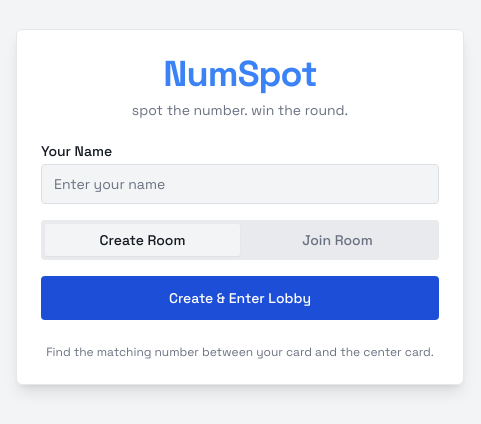
it: Home page › name validation › shows error when name is empty
Click the button "Create & Enter Lobby".
click(240, 298)  # box x1=41 y1=276 x2=439 y2=320
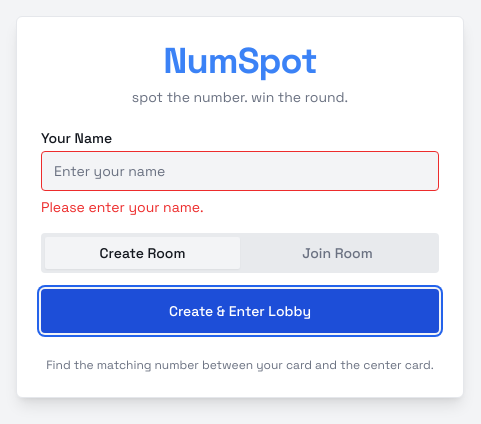
Result: the text "Please enter your name." is shown at x1=41 y1=198 x2=204 y2=216
